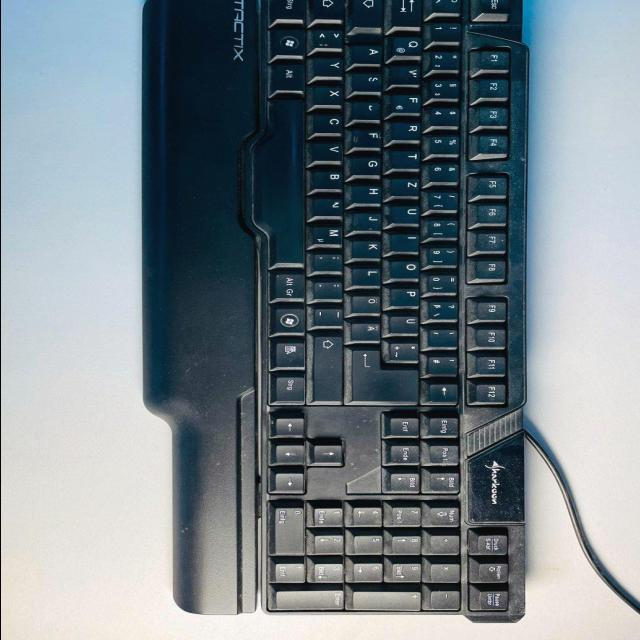0: (426, 271, 462, 292)
1: (430, 20, 466, 40)
2: (428, 48, 464, 70)
3: (430, 77, 464, 98)
4: (430, 105, 464, 125)
5: (429, 132, 465, 154)
6: (429, 161, 463, 182)
7: (427, 188, 463, 209)
8: (425, 216, 463, 238)
9: (427, 243, 463, 265)
a: (353, 43, 387, 63)
accent: (427, 325, 463, 347)
ae: (352, 320, 384, 340)
alt-left: (273, 61, 309, 91)
altgr-right: (275, 270, 309, 300)
b: (315, 167, 347, 188)
c: (314, 112, 346, 132)
caret: (429, 0, 465, 12)
comma: (313, 250, 347, 270)
d: (354, 99, 385, 119)
del: (425, 382, 461, 406)
e: (391, 92, 425, 112)
enter: (351, 348, 425, 404)
f: (353, 127, 385, 145)
g: (353, 154, 385, 174)
h: (353, 182, 385, 202)
hash: (429, 353, 463, 374)
i: (392, 231, 422, 251)
j: (353, 210, 385, 230)
k: (353, 238, 385, 258)
keyboard: (241, 0, 536, 621)
l: (354, 265, 384, 285)
less: (312, 26, 348, 48)
m: (313, 223, 347, 244)
minus: (315, 305, 347, 325)
n: (315, 196, 347, 216)
o: (392, 258, 423, 278)
oe: (353, 292, 384, 312)
p: (393, 285, 423, 305)
plus: (390, 340, 424, 360)
point: (315, 278, 347, 298)
q: (392, 34, 425, 56)
r: (394, 119, 424, 139)
s: (354, 70, 386, 90)
shift-left: (312, 0, 348, 18)
shift-lock: (352, 0, 387, 26)
shift-right: (315, 333, 347, 401)
space: (258, 96, 309, 266)
ss: (428, 298, 462, 319)
strg-left: (270, 0, 310, 19)
strg-right: (276, 373, 309, 401)
t: (393, 147, 424, 167)
tab: (392, 0, 425, 25)
u: (391, 203, 423, 223)
ue: (390, 313, 422, 333)
v: (313, 140, 347, 160)
w: (391, 63, 424, 83)
x: (315, 84, 347, 104)
y: (314, 56, 347, 76)
z: (391, 176, 423, 195)
